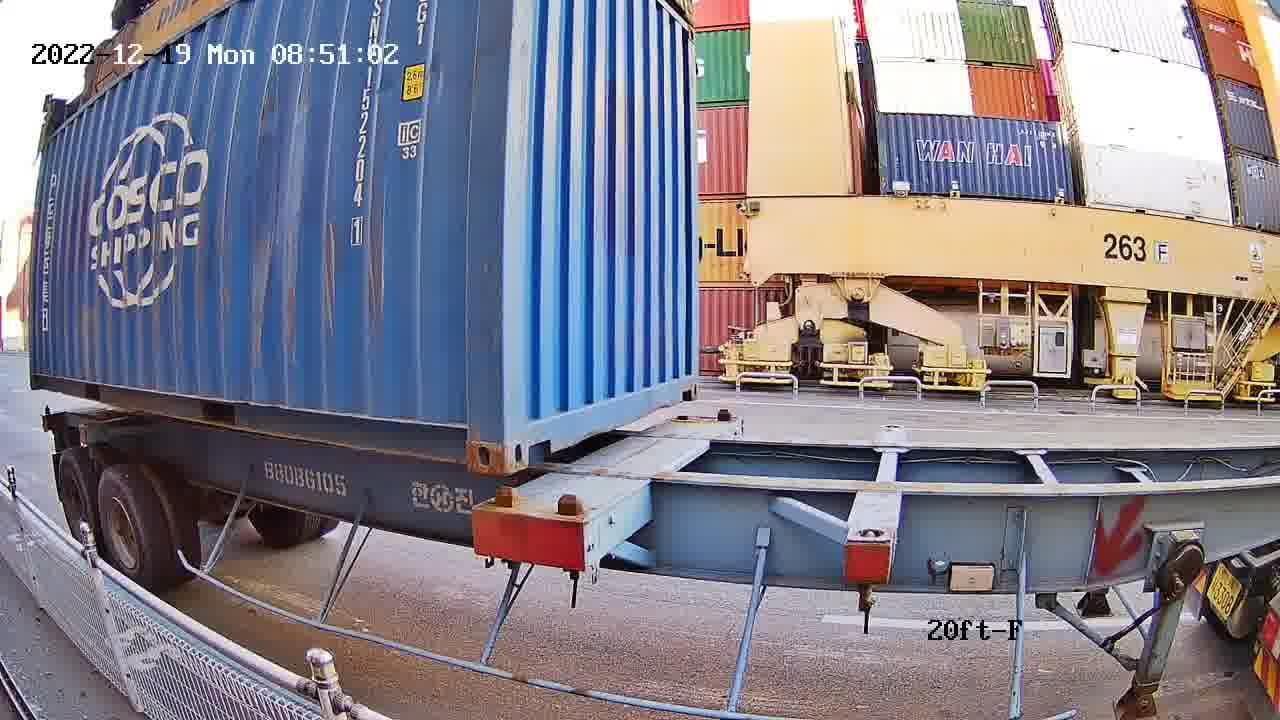Chassis: (544, 417, 742, 567), (476, 418, 692, 512)
Cone: (481, 487, 523, 561), (549, 493, 585, 571), (714, 407, 734, 423)
Hole_L: (505, 388, 563, 475)
Hole_R: (436, 397, 506, 475), (669, 355, 701, 405)
Tire: (99, 467, 155, 586), (57, 453, 94, 544)
